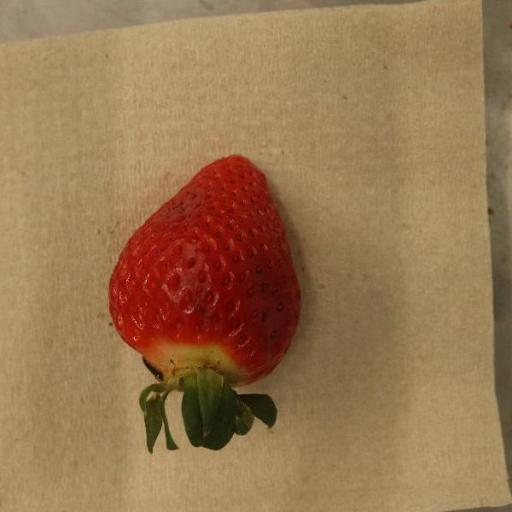Strawberry: (109, 155, 302, 455)
